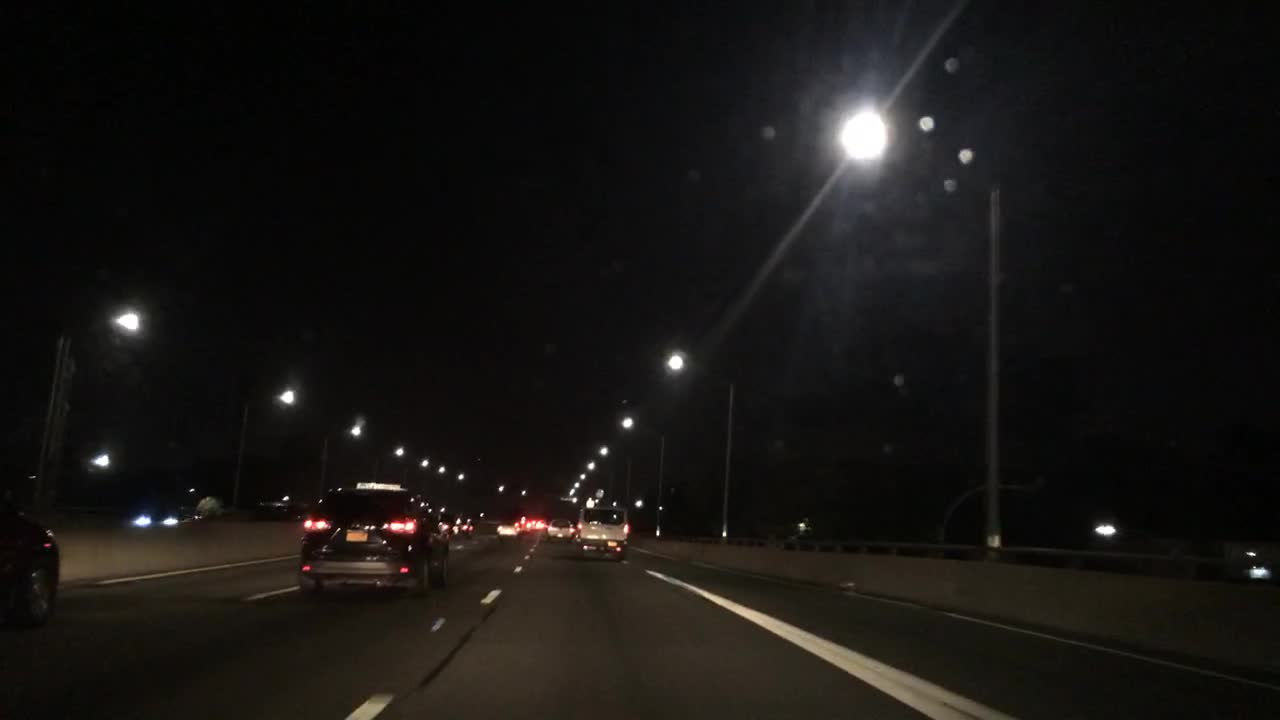car: (295, 481, 451, 598), (1, 506, 61, 635), (573, 505, 629, 562), (126, 503, 198, 527), (253, 491, 303, 522), (545, 515, 573, 543), (496, 516, 525, 542), (438, 517, 460, 544), (458, 512, 474, 538), (519, 516, 534, 532), (533, 515, 545, 530)
